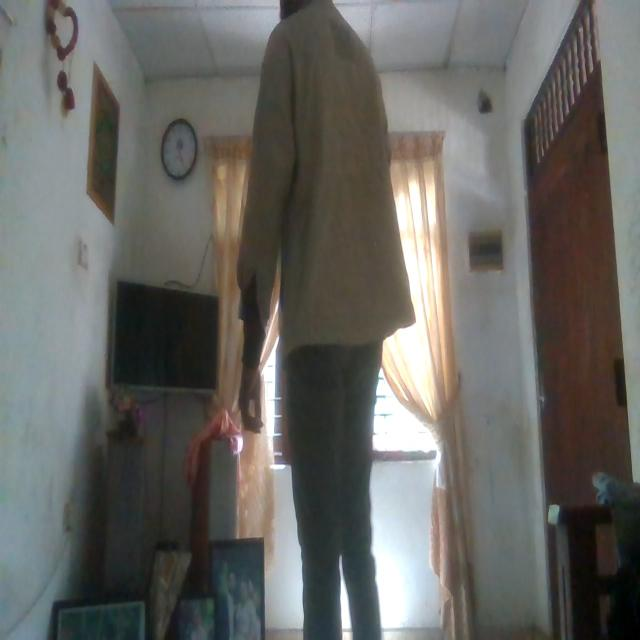Jacket_Wearer: (242, 0, 412, 348)
Person: (229, 0, 409, 640)
